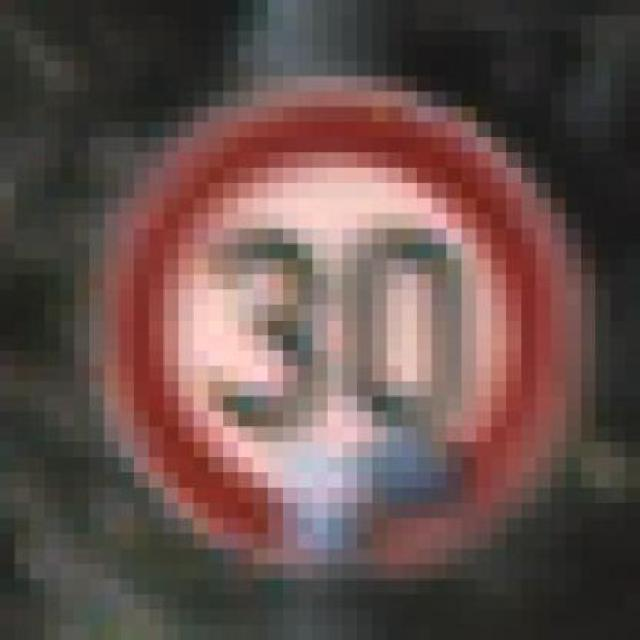Speed Limit 30 KMPh: (59, 46, 610, 594)
